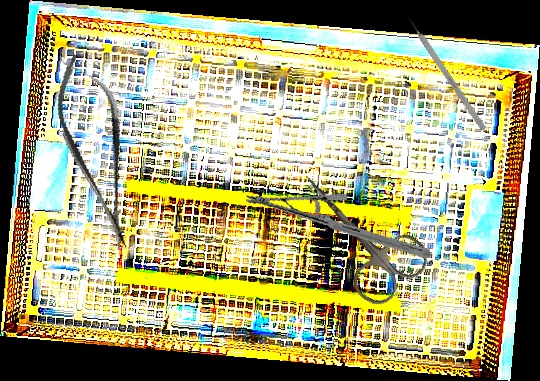Hook Surgical: (402, 10, 487, 132)
Iris Scissors: (277, 148, 436, 314)
Micro Scissor: (42, 46, 151, 259)
Needle Holder: (244, 159, 432, 293)
